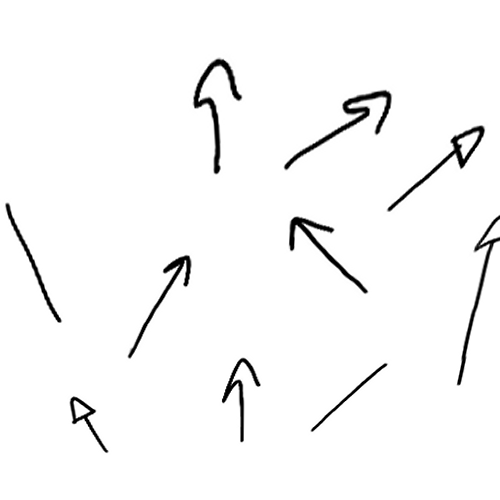arrow: (281, 88, 391, 167), (386, 123, 486, 207), (453, 215, 500, 383), (126, 253, 192, 361), (6, 203, 64, 324), (288, 213, 367, 292), (190, 58, 242, 176), (311, 361, 386, 428), (219, 359, 262, 439), (69, 397, 106, 453)
